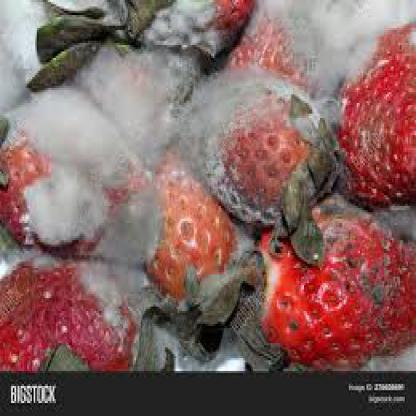strawberry_rotten: (208, 197, 414, 369)
